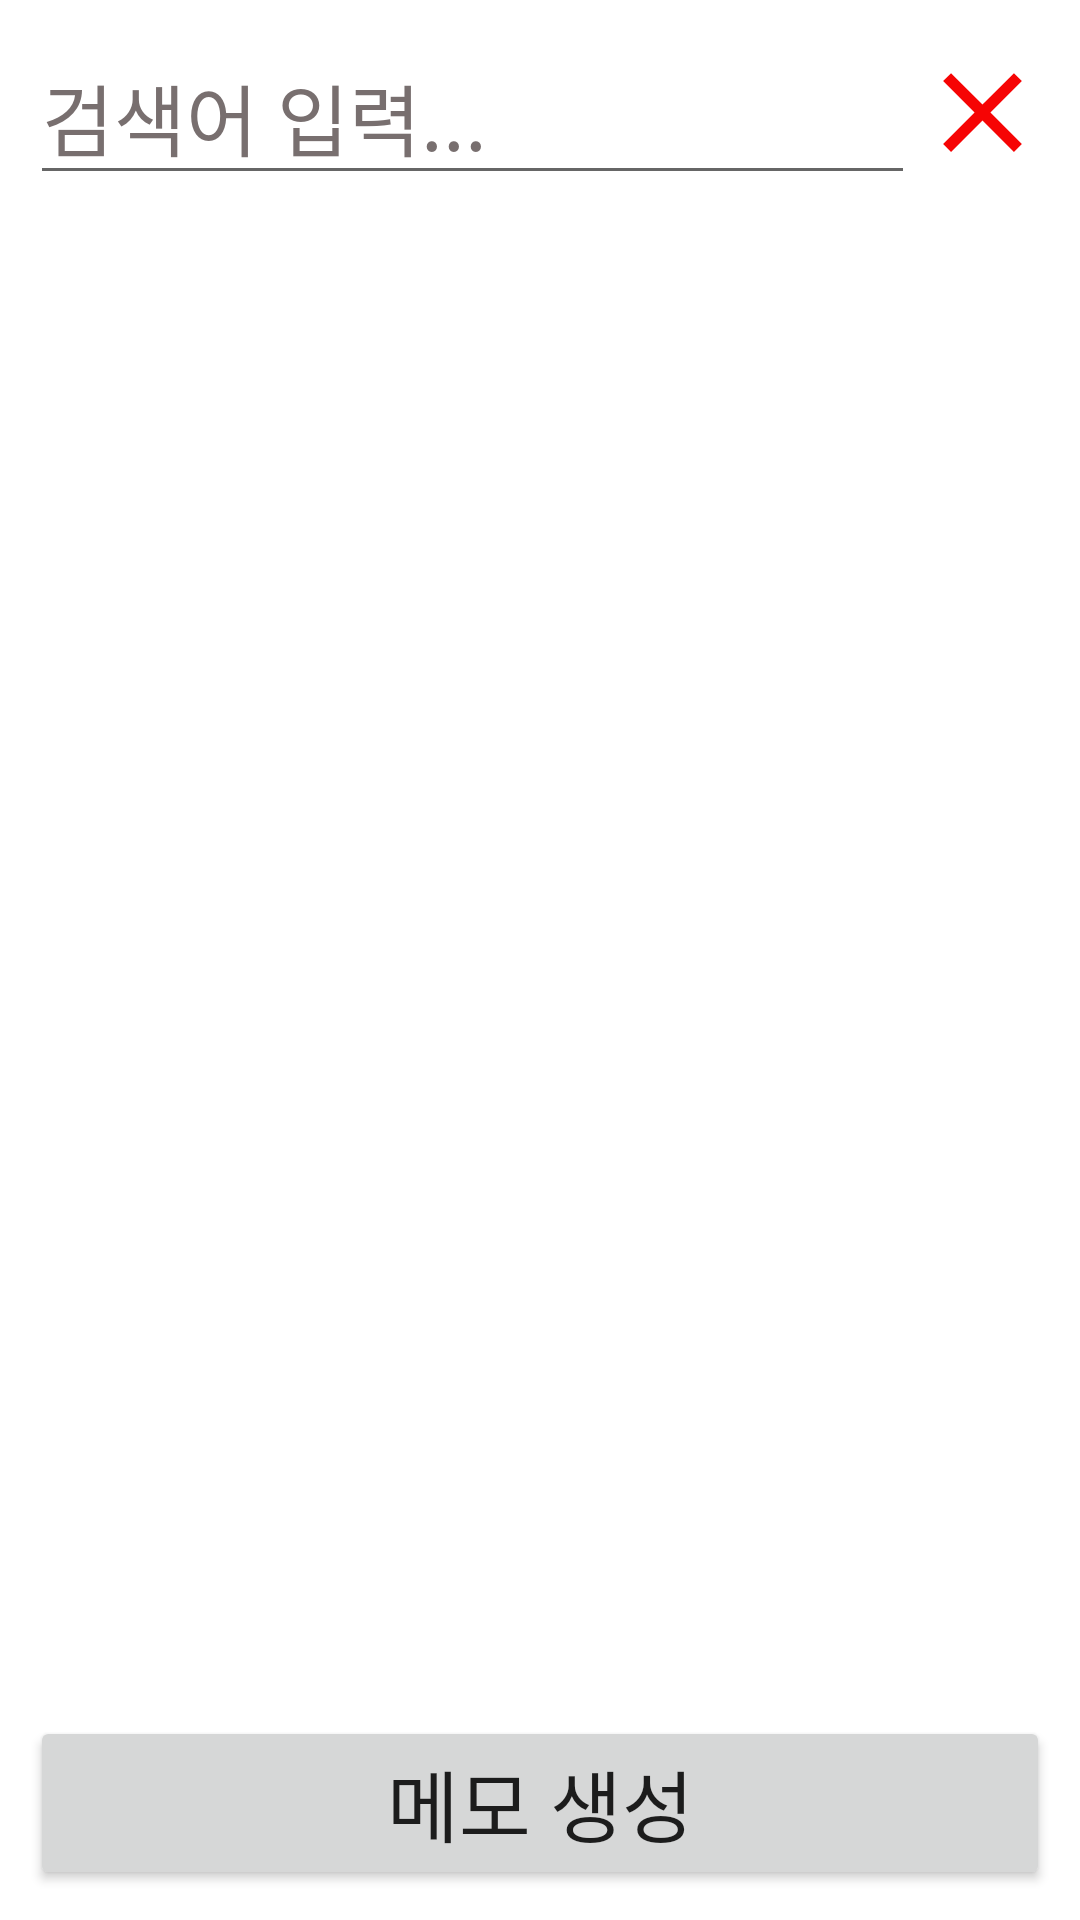

Icons on this 1080 x 1920 Android screen, each with the point to tap as [x,y]:
clear: [982,112]
